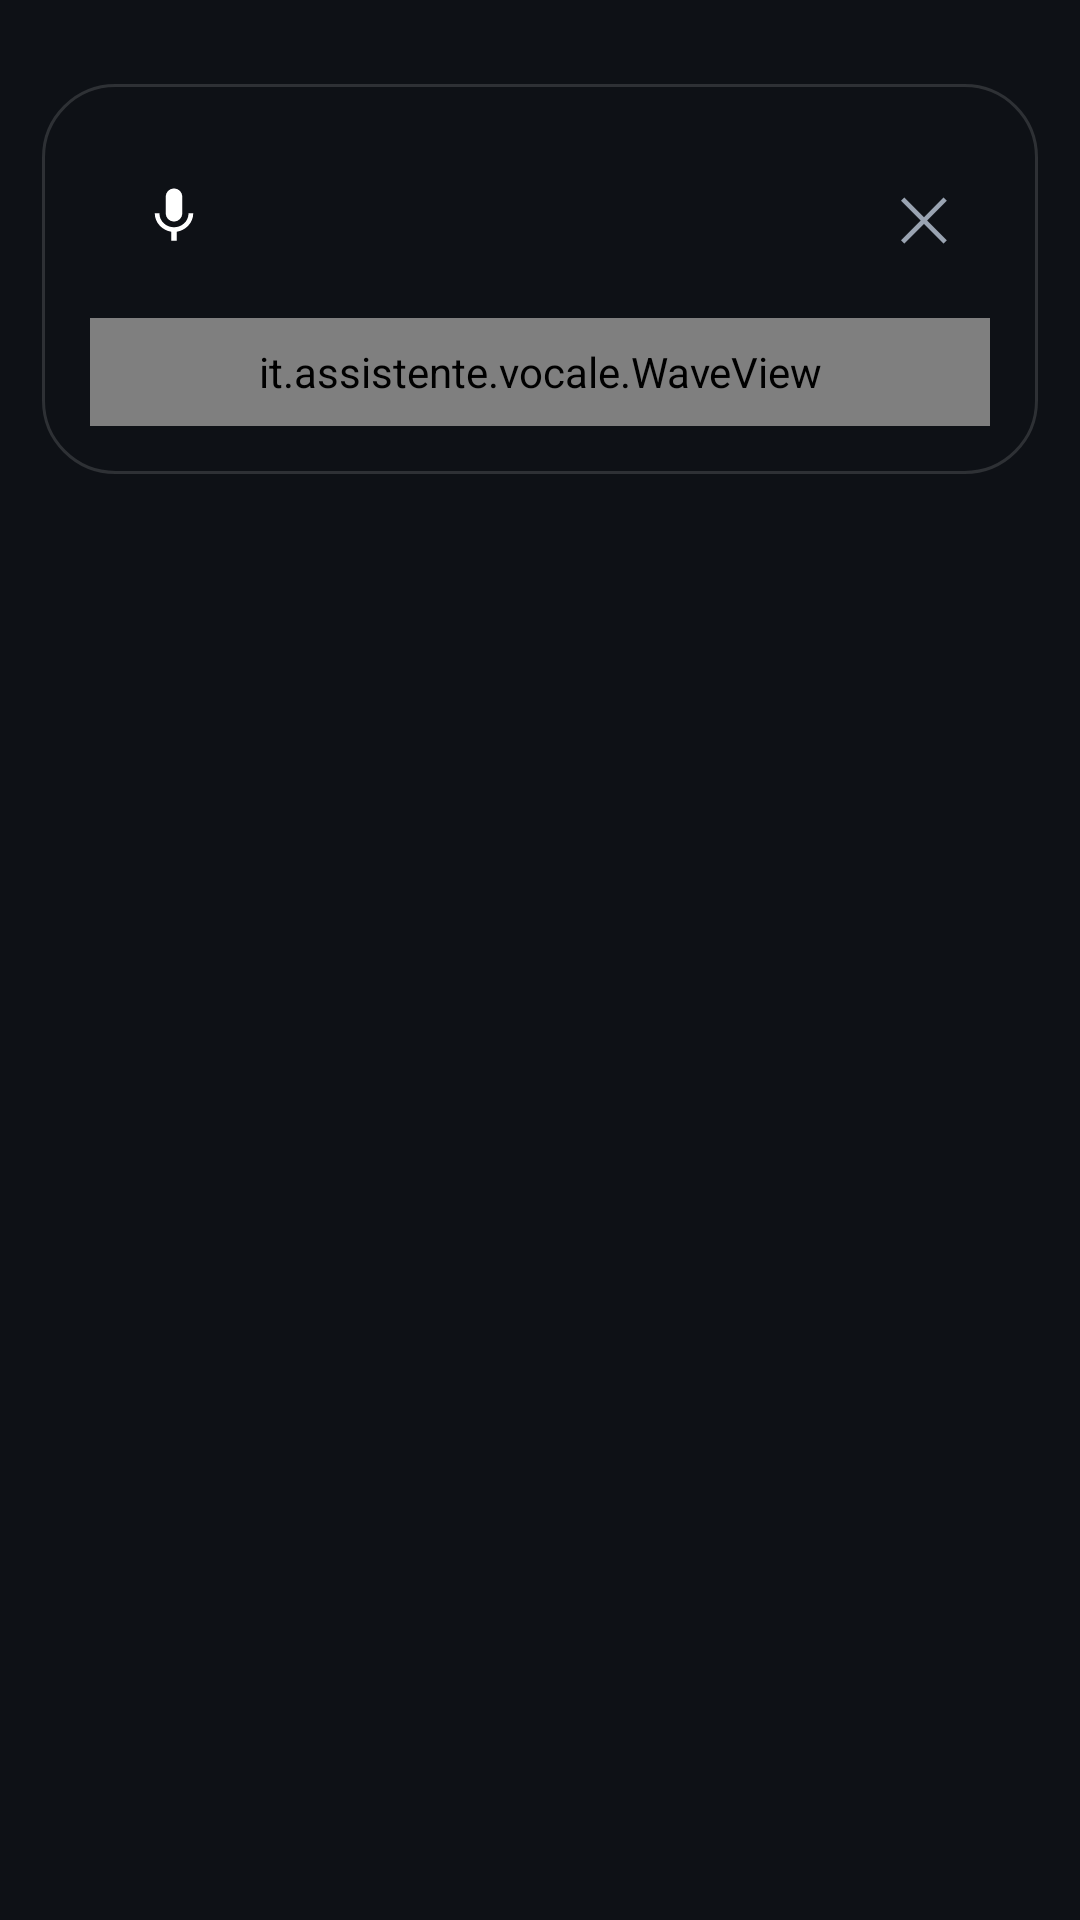

Icons on this 1080w x 1920h Android screen, each with its box as [x1, y1, x2, y2]:
mic: [154, 188, 194, 241]
